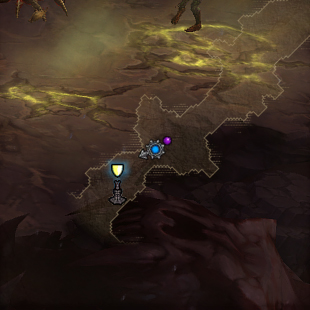ShieldPylon: (109, 162, 125, 205)
